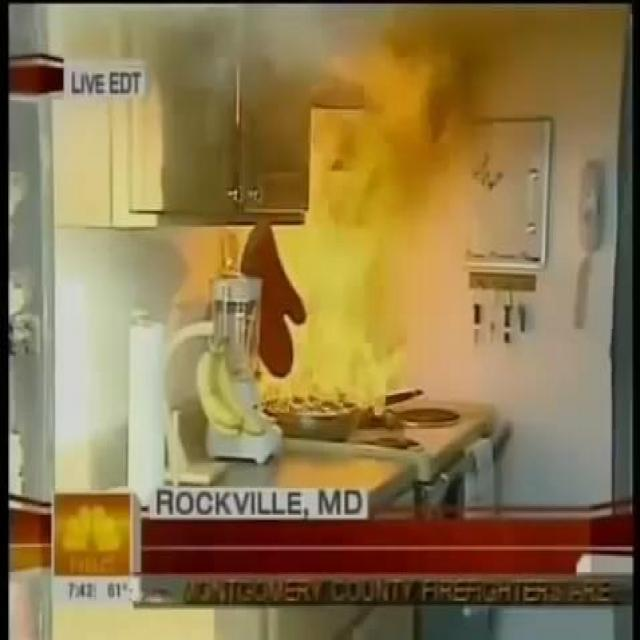fire: (273, 30, 437, 436)
